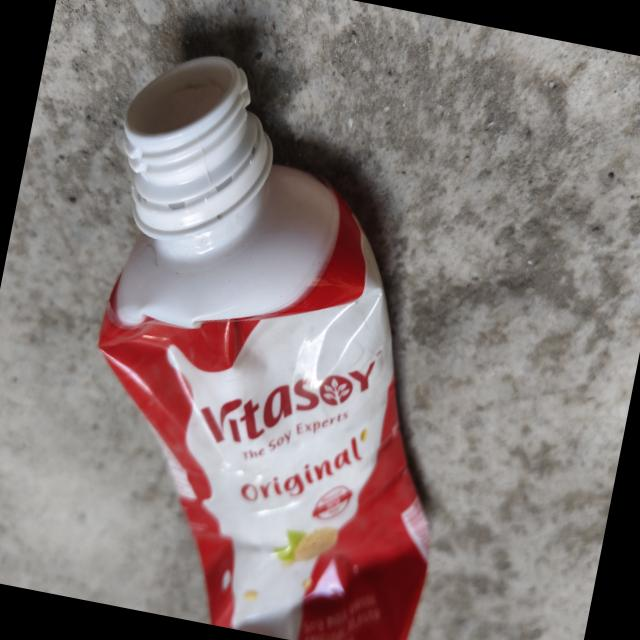Bottle: (99, 56, 429, 640)
